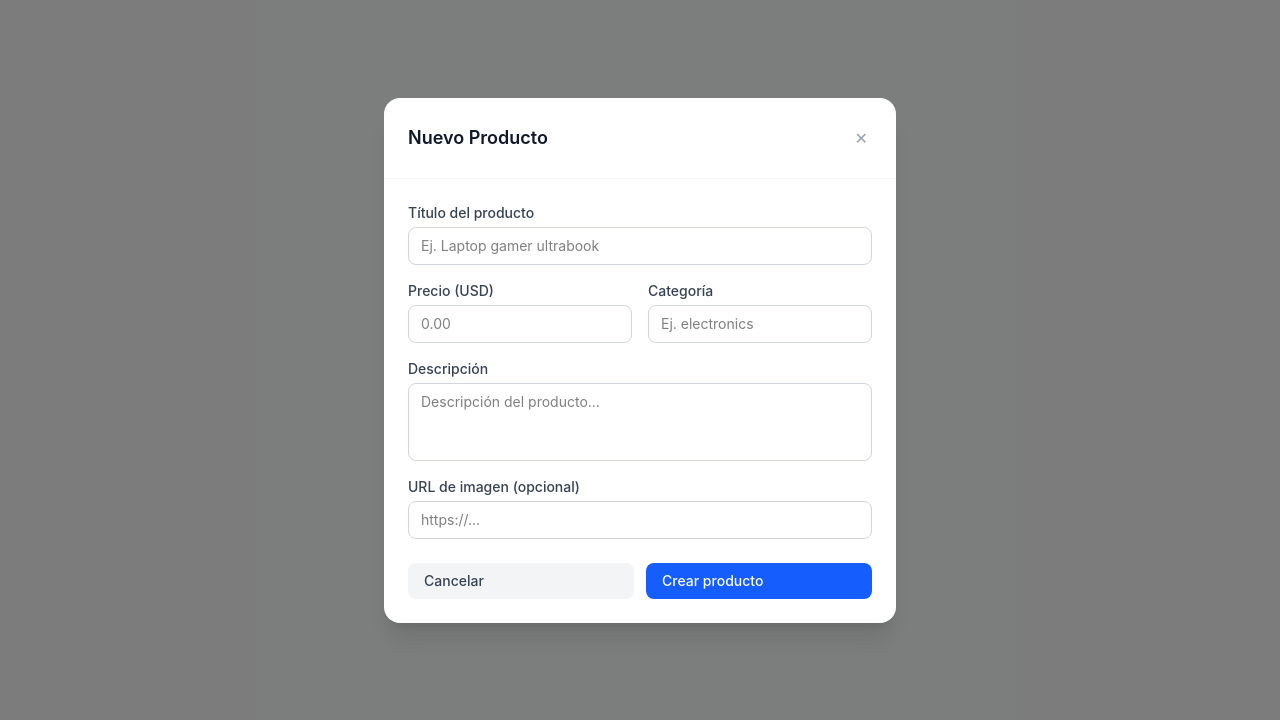
Test: ProductForm › muestra errores de validación cuando el formulario está incompleto
Note: Intenta enviar sin llenar campos
Click the button "Crear producto": click(759, 580) [646,562,872,598]
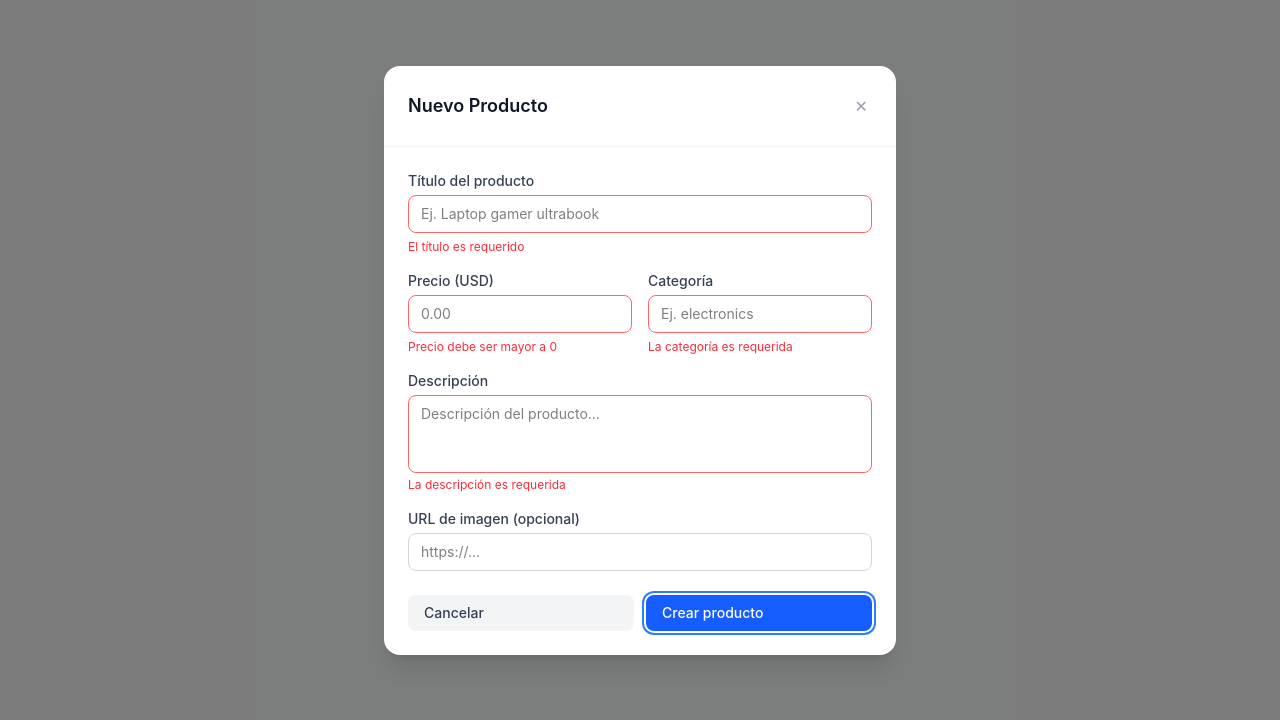
Now the text "El título es requerido" is shown, box [408,238,524,254]
Now the text "Precio debe ser mayor a 0" is shown, box [408,338,557,354]
